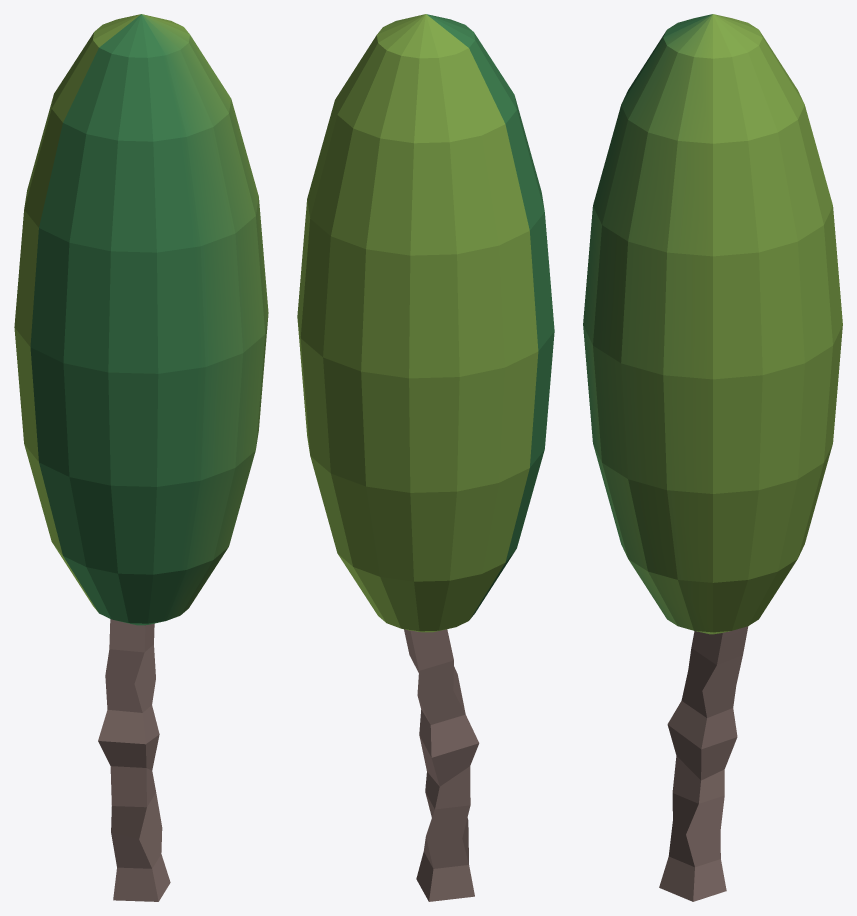
Rendered from tree3.fbx.
The picture shows the model from 3 angles, left to right: view 1: azimuth 30°, elevation 25°; view 2: azimuth 150°, elevation 25°; view 3: azimuth 270°, elevation 25°; orthographic projection.
Parts seen in each view (by area): view 1: Sphere, Tree3; view 2: Sphere, Tree3; view 3: Sphere, Tree3.
Boxes of the visible parts, box(x1,y1,x2,y2) form: Sphere: box(14, 14, 268, 625); Tree3: box(98, 619, 170, 901); Sphere: box(297, 14, 554, 632); Tree3: box(404, 629, 479, 901); Sphere: box(583, 14, 842, 634); Tree3: box(659, 626, 748, 901).
Bounding box in the file's own units: 18.37 × 18.37 × 68.79.
